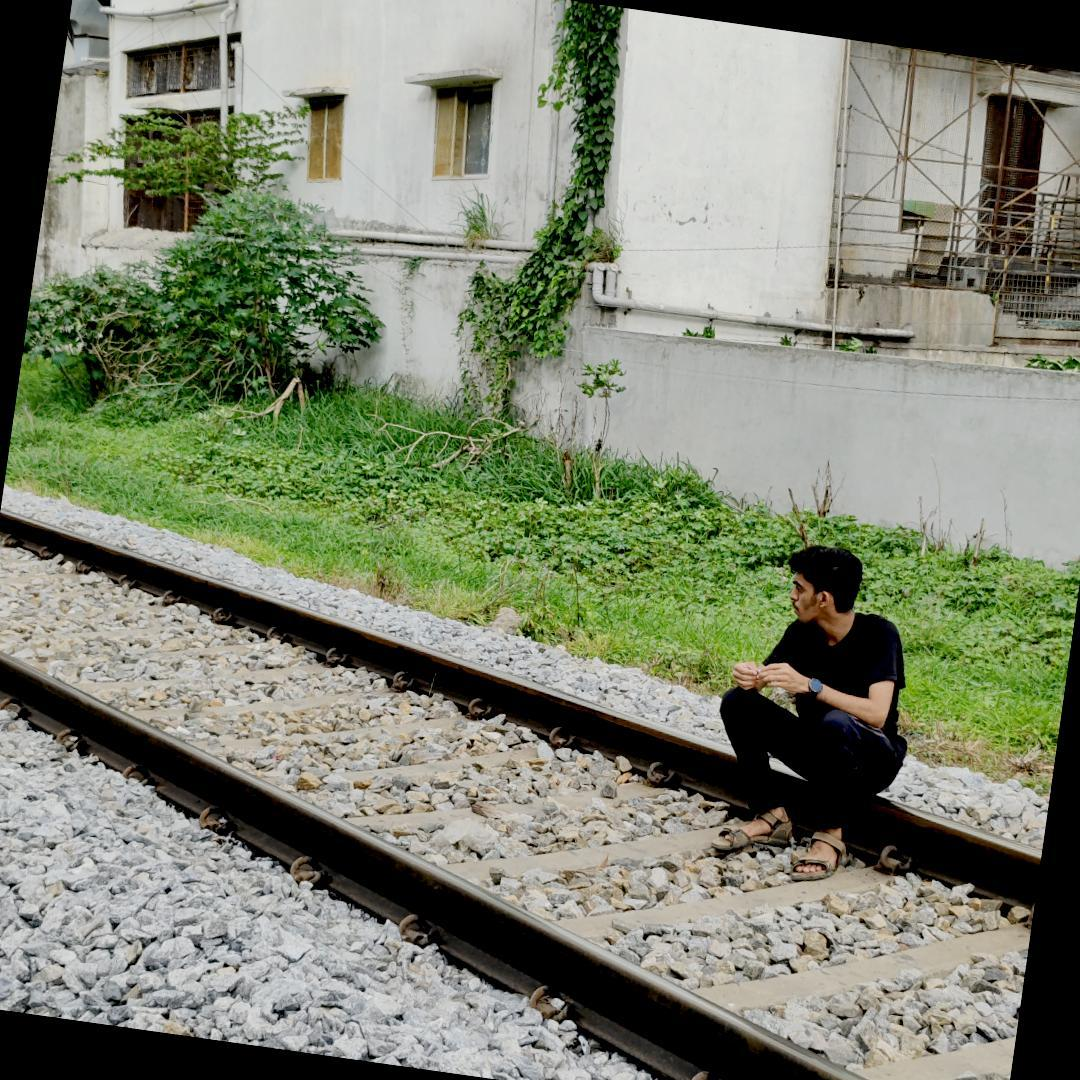sitting: (675, 510, 956, 906)
